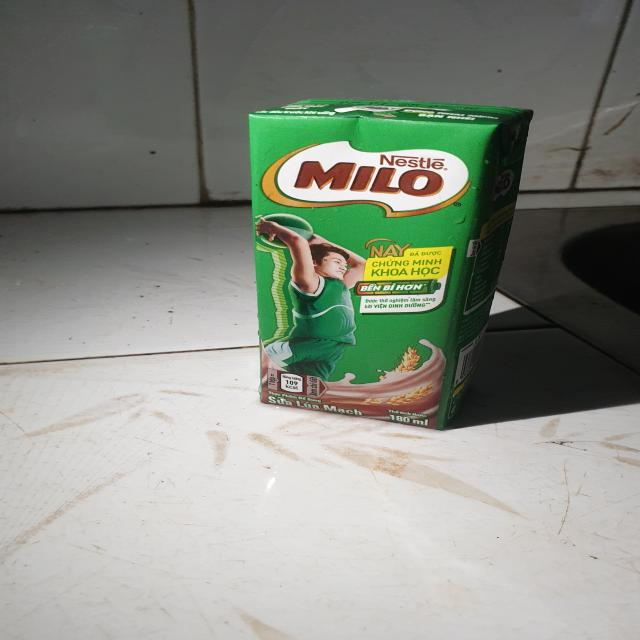Milo: (237, 94, 539, 433)
